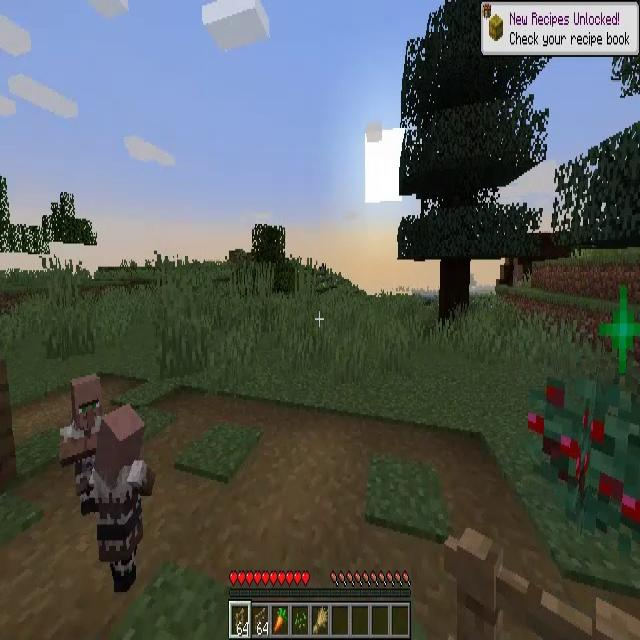people: (90, 402, 156, 593), (58, 376, 100, 506)
